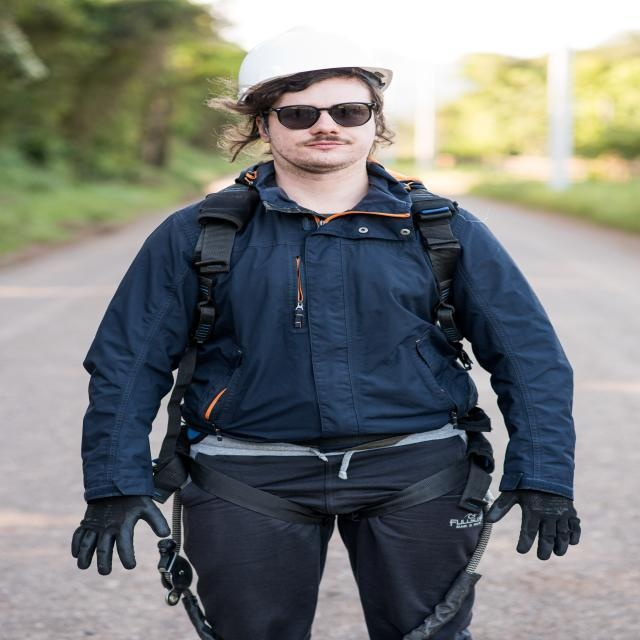Arnes_seguridad: (154, 167, 510, 585)
